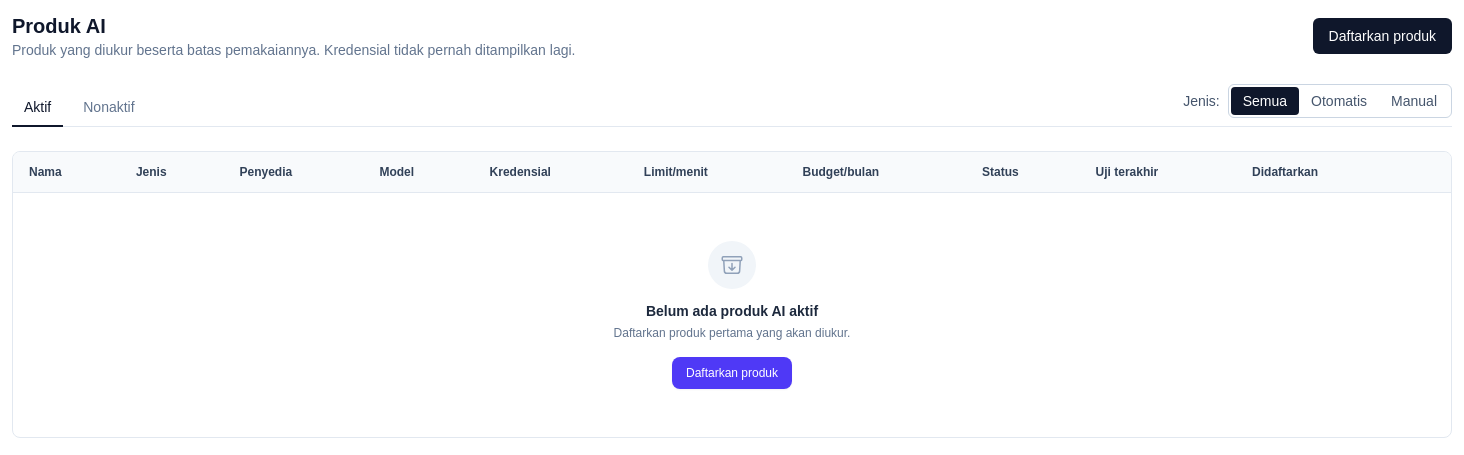
Test case: ProvidersPage type filter and columns (PBI-23 AC6) › names the type when Manual on Nonaktif is empty
Check: the heading "Belum ada produk AI aktif" is shown, box [646, 301, 818, 321]
Step 1. Click the button "Manual" → point(1414, 101), box [1379, 87, 1449, 115]
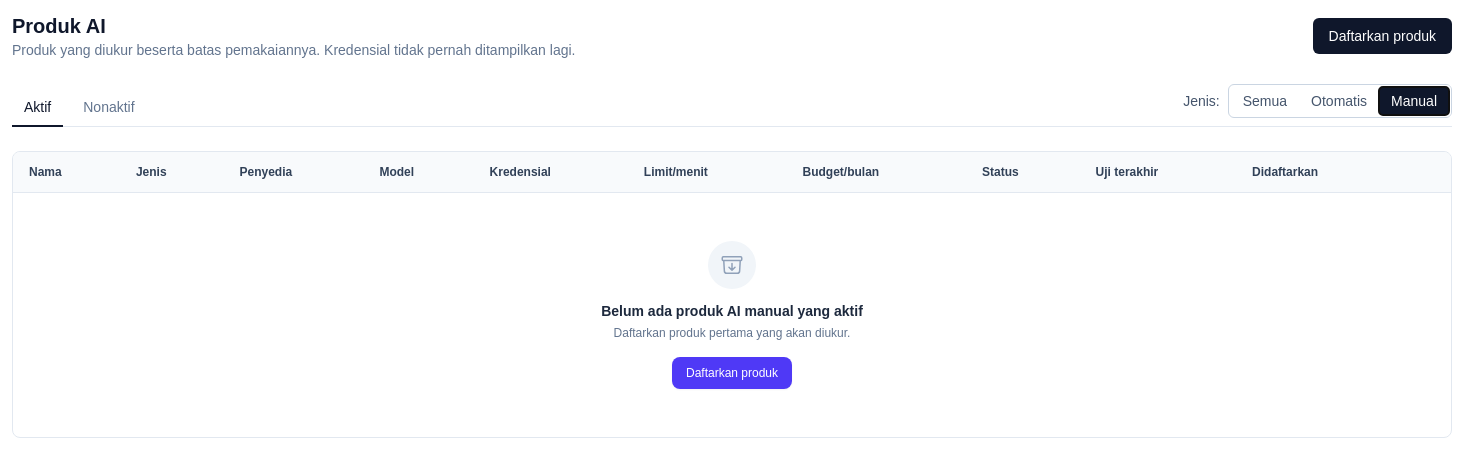
Step 2. Click the tab "Nonaktif" → point(109, 108), box [71, 89, 147, 127]
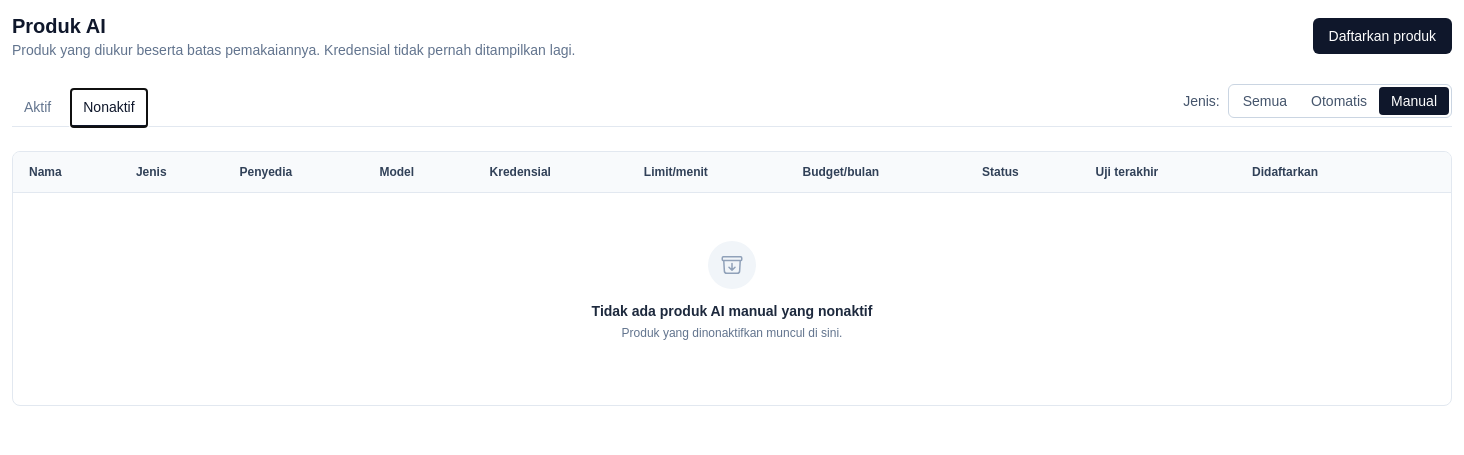
Check: the heading "Tidak ada produk AI manual yang nonaktif" is shown, box [592, 301, 872, 321]
